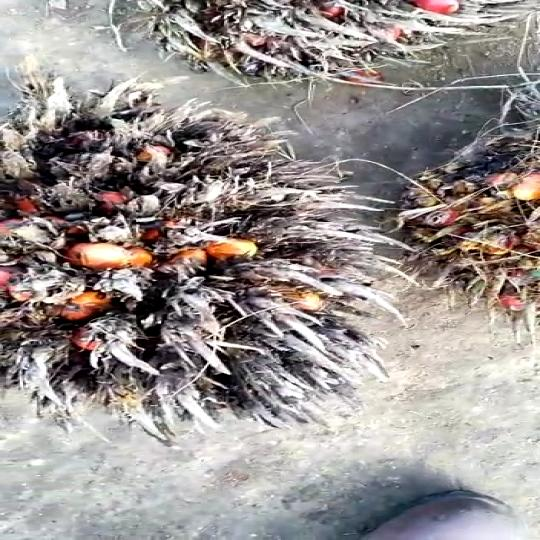terlalu masak: (0, 82, 407, 447)
